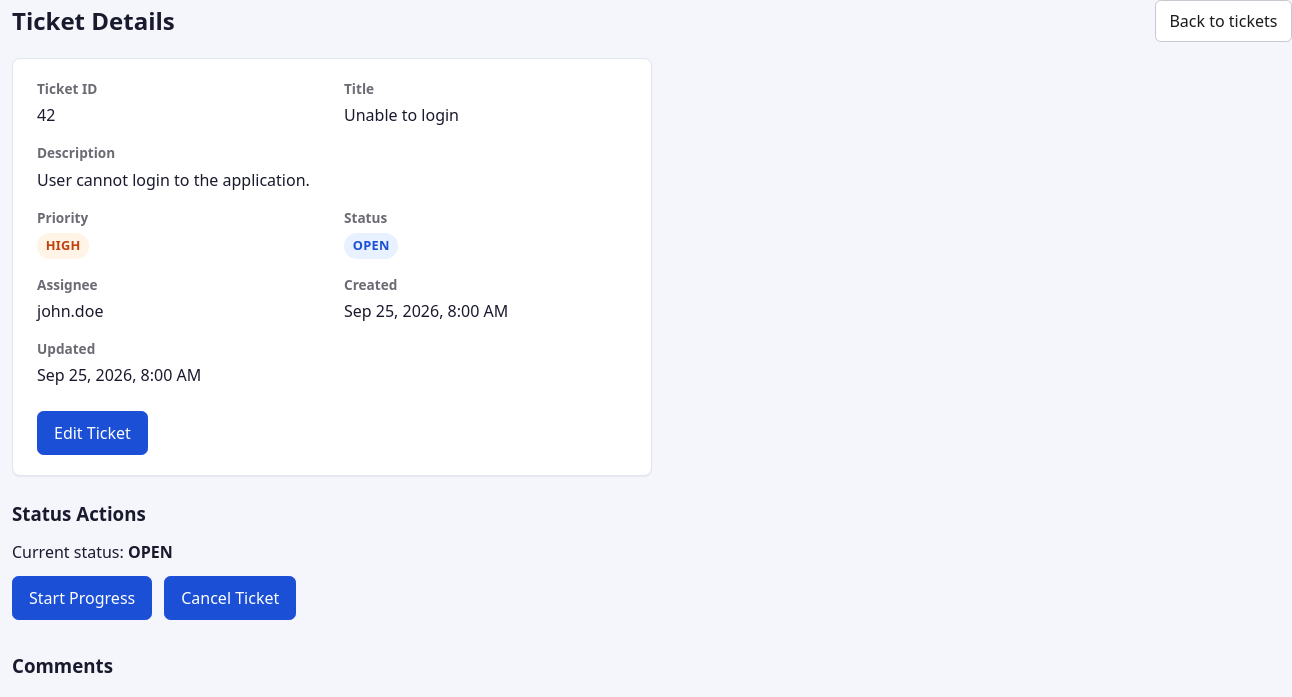
Test: TicketDetailsPage › displays updated values after a successful save
The image size is (1292, 697).
Expected: the text "Unable to login" is shown, [344, 104, 459, 126]
Step 1. Click the button "Edit Ticket" → (92, 433), box [37, 411, 148, 455]
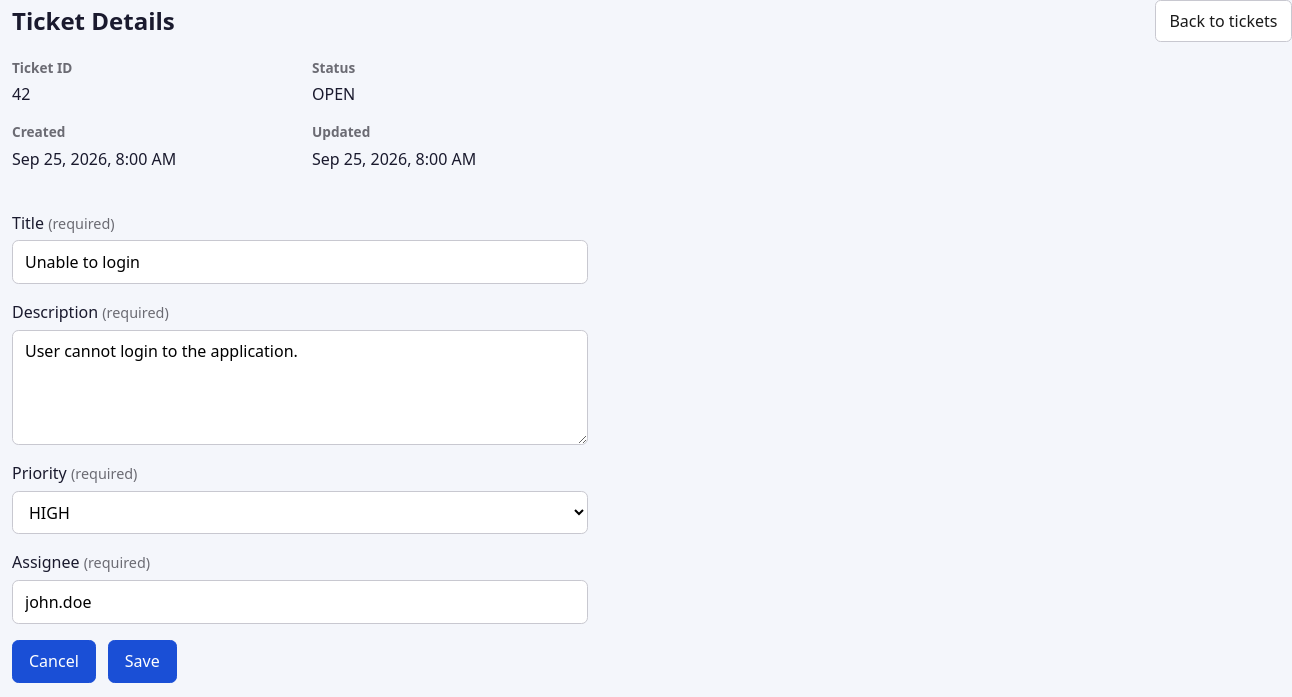
Step 2. Replace the text in the field labelled "Title (required)" with "Updated title" → (300, 262), box [12, 240, 588, 284]
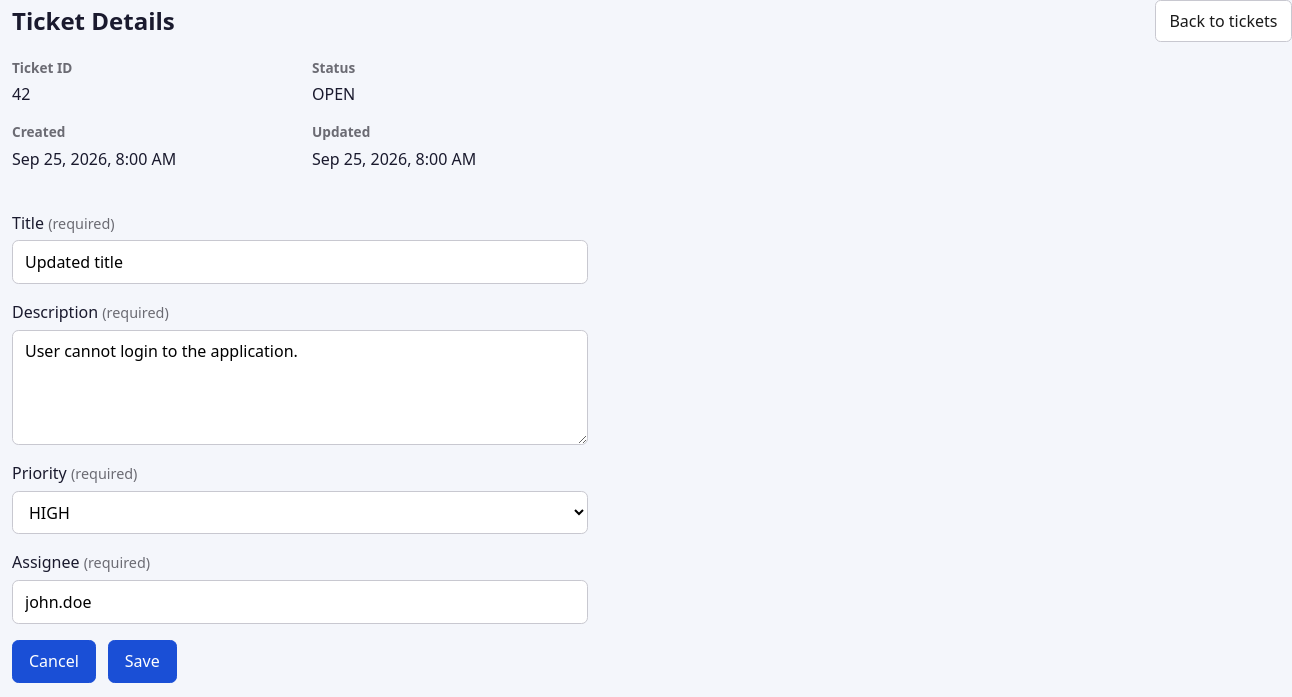
Step 3. Replace the text in the text box labelled "Description (required)" with "Updated description." → (300, 387), box [12, 330, 588, 445]
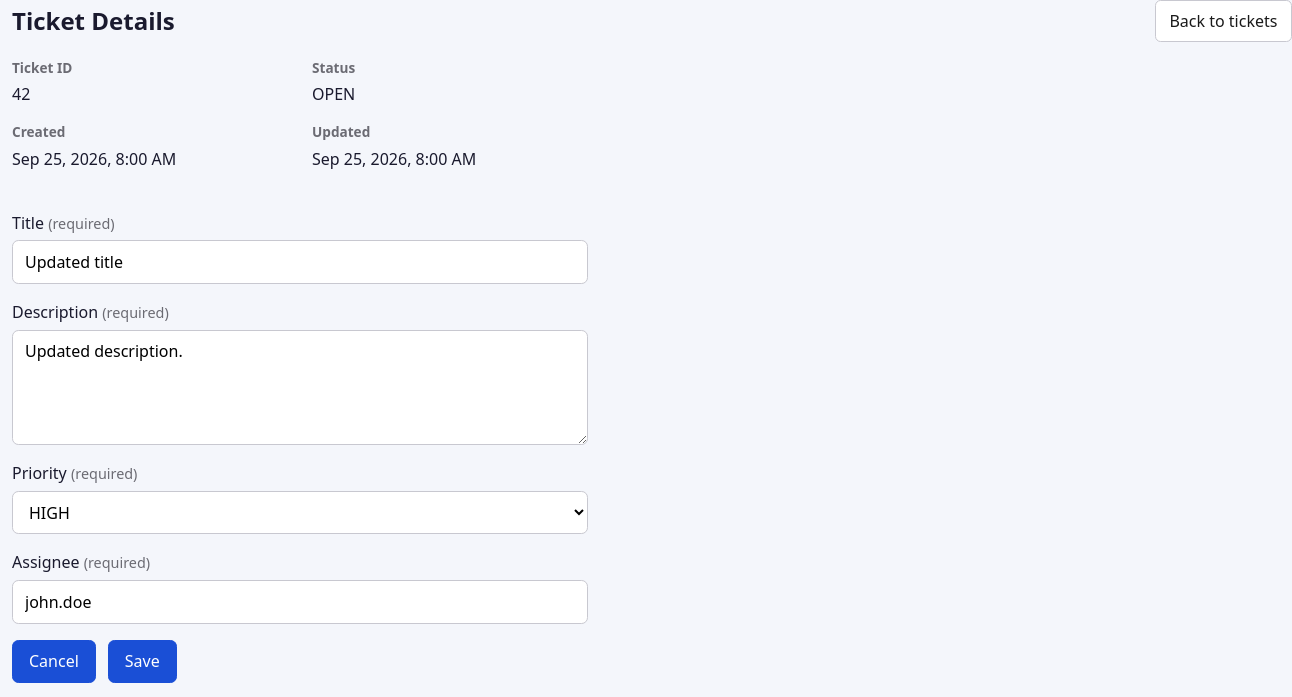
Step 4. Select "CRITICAL" in the dropdown labelled "Priority (required)" → (300, 513), box [12, 491, 588, 534]
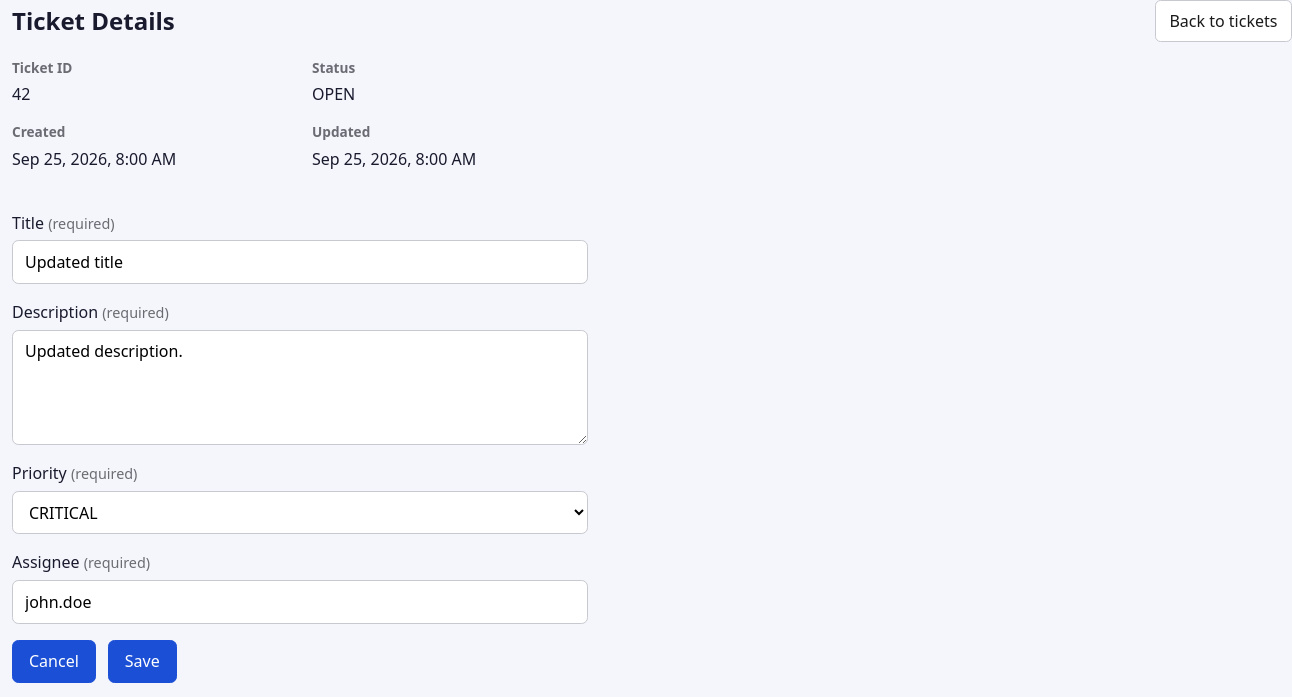
Step 5. Replace the text in the field labelled "Assignee (required)" with "jane.doe" → (300, 602), box [12, 580, 588, 624]
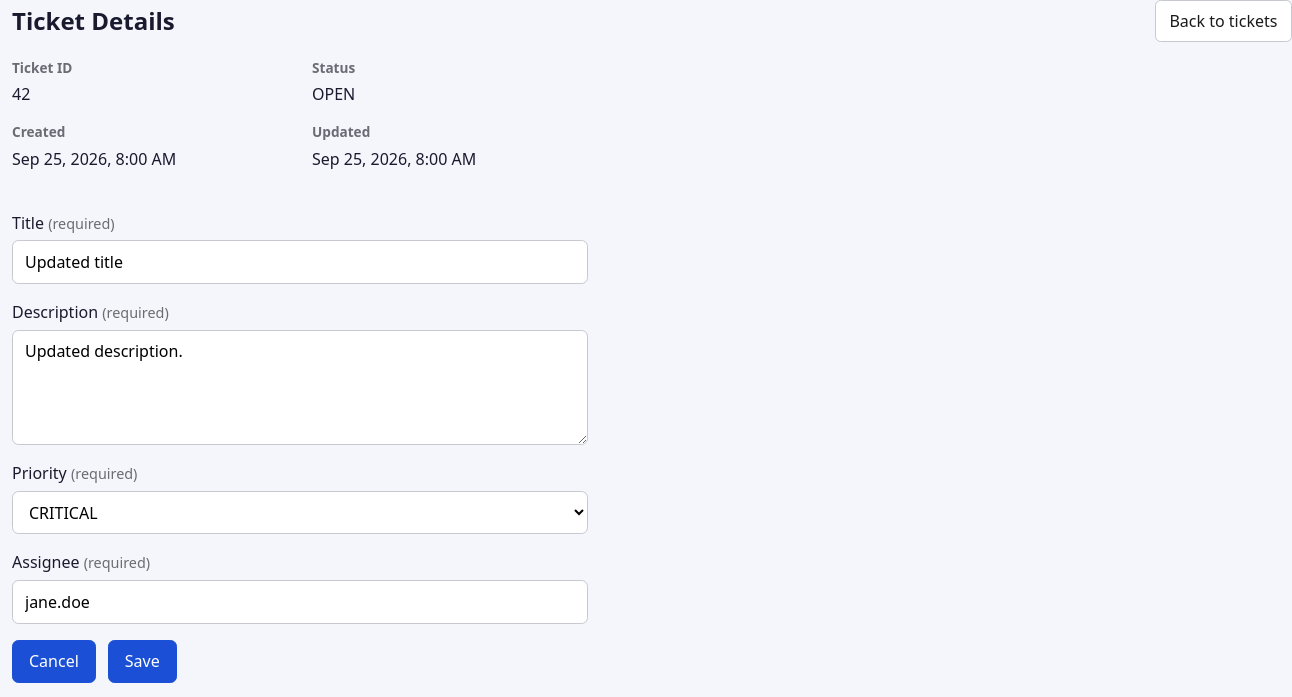
Step 6. Click the button "Save" → (142, 661), box [108, 640, 177, 683]
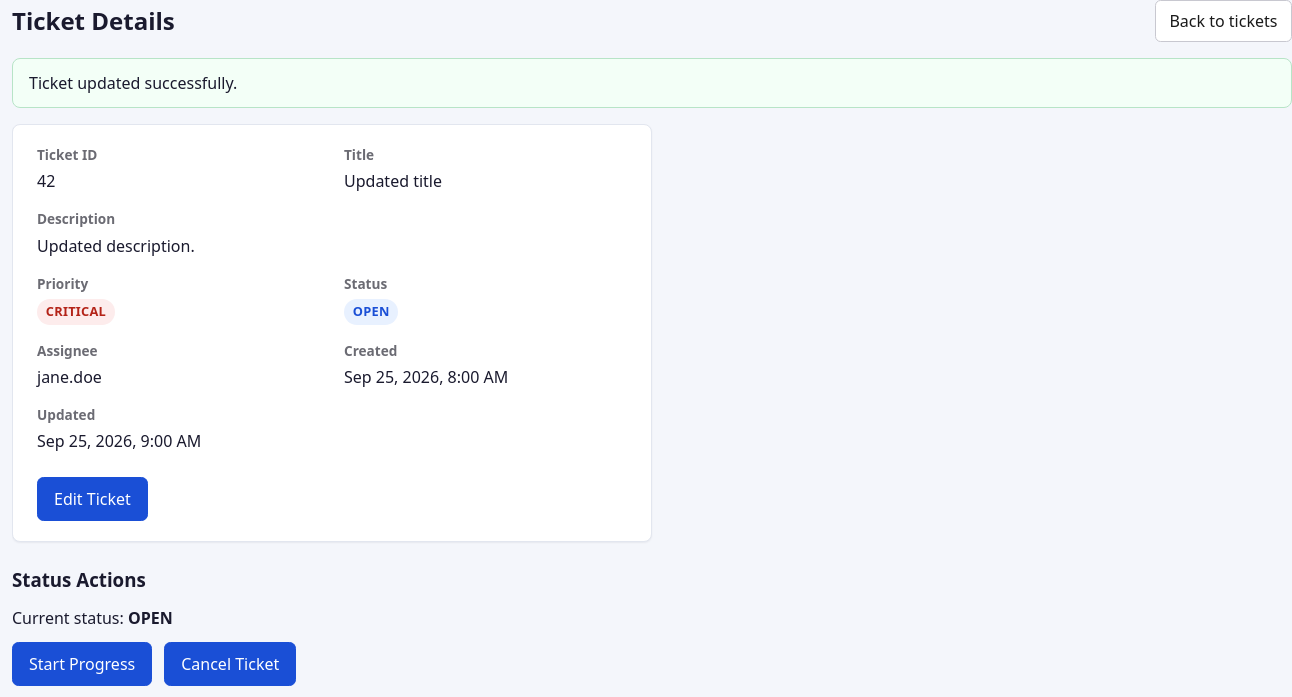
Expected: the text "Updated title" is shown, [344, 170, 442, 192]
Expected: the text "Updated description." is shown, [37, 235, 195, 257]
Expected: the text "CRITICAL" is shown, [37, 299, 115, 325]
